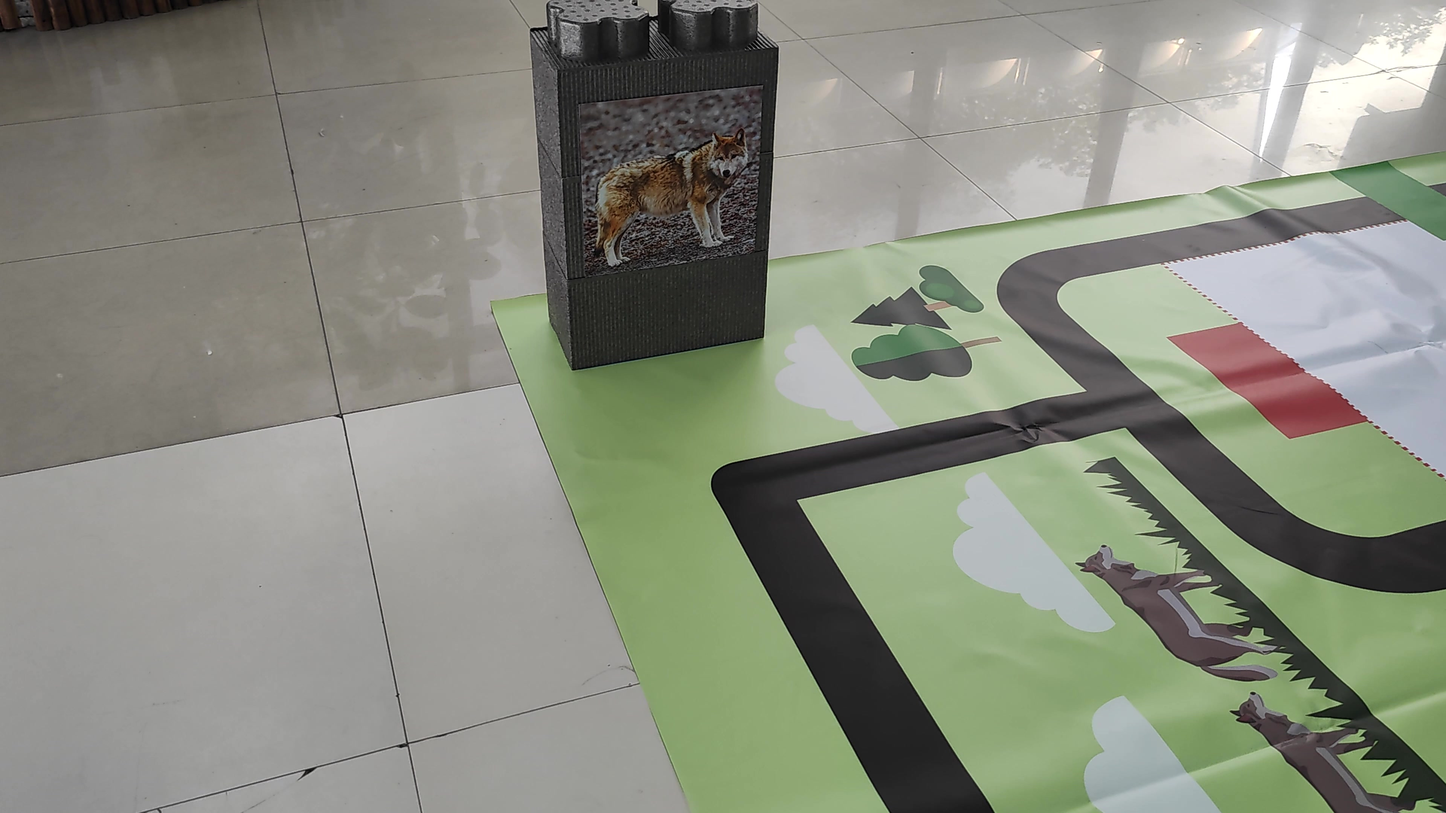wolf: (584, 113, 767, 277)
